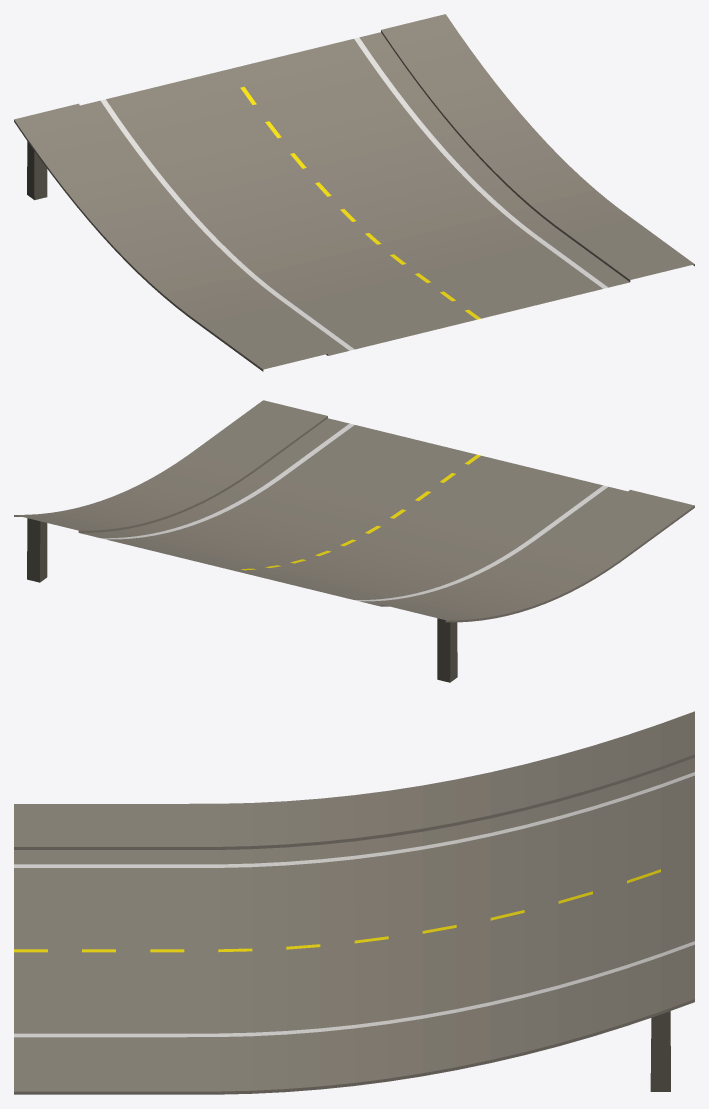
File: Climb_Start.fbx
3 views of the same model, one above another, from view 1: azimuth 30°, elevation 25°; view 2: azimuth 150°, elevation 25°; view 3: azimuth 270°, elevation 25° (orthographic). The views are drawn at different scales.
Visible parts, largest first — view 1: Straight; view 2: Straight; view 3: Straight.
Boxes of the visible parts, left/top/right/bottom form: Straight: left=14, top=14, right=694, bottom=371; Straight: left=14, top=400, right=694, bottom=682; Straight: left=14, top=711, right=694, bottom=1094.
Size of the model in its own units: 20 by 3.1 by 20.
